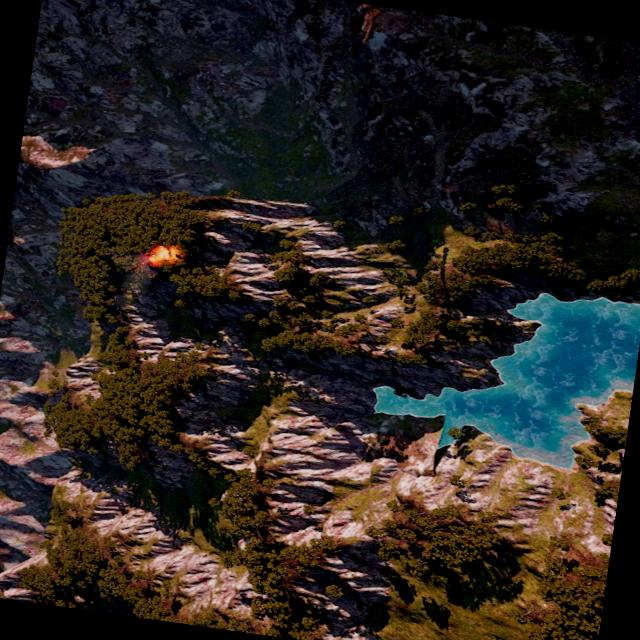fire: (146, 242, 177, 268)
